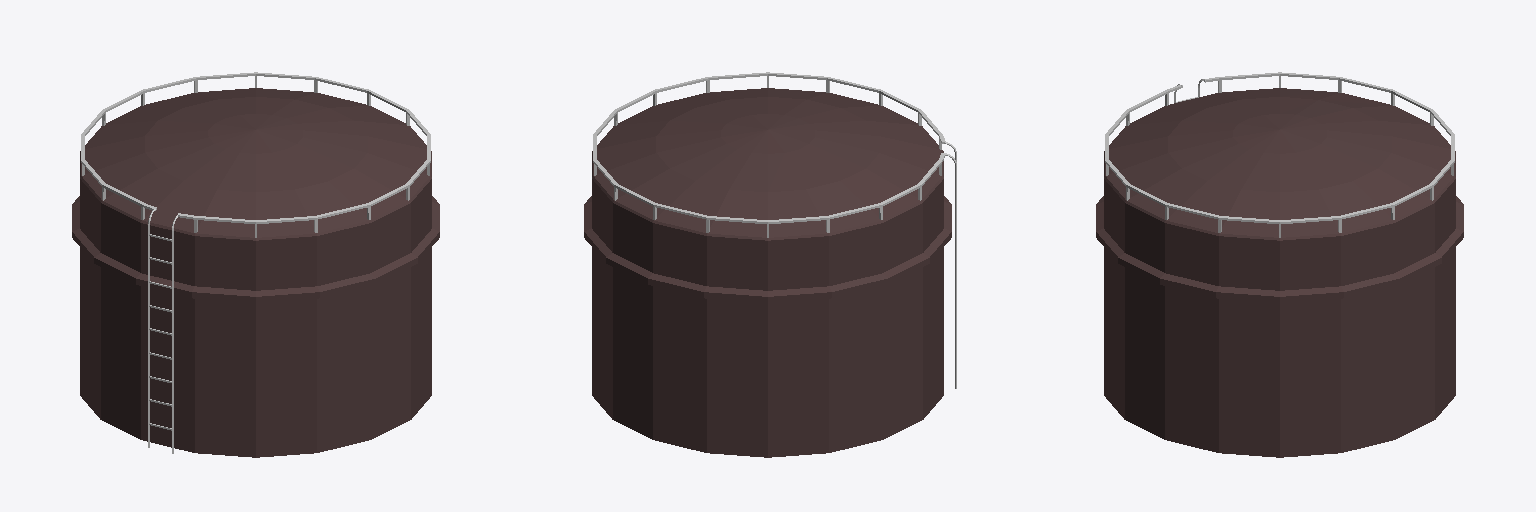
Rendered from oilstorage.obj.
The picture shows the model from 3 angles: view 1: azimuth 30°, elevation 25°; view 2: azimuth 150°, elevation 25°; view 3: azimuth 270°, elevation 25°; orthographic projection.
Parts seen in each view (by area): view 1: OilStorage; view 2: OilStorage; view 3: OilStorage.
Part boxes in pixels (x1,y1,x2,y2): OilStorage: (72, 72, 439, 457); OilStorage: (584, 72, 956, 457); OilStorage: (1096, 72, 1463, 457).
Bounding box in the file's own units: 2.86 × 2.14 × 2.82.